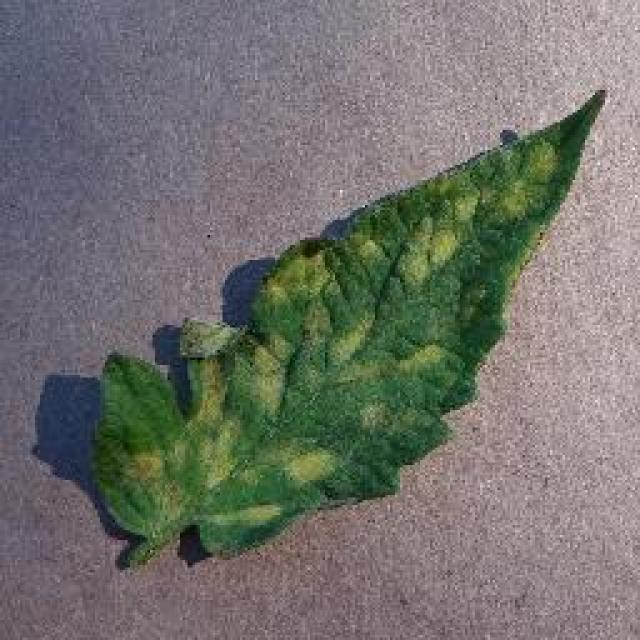Tomato mold leaf: (84, 84, 606, 571)
